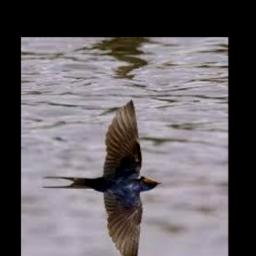Swallow: (41, 99, 160, 256)
